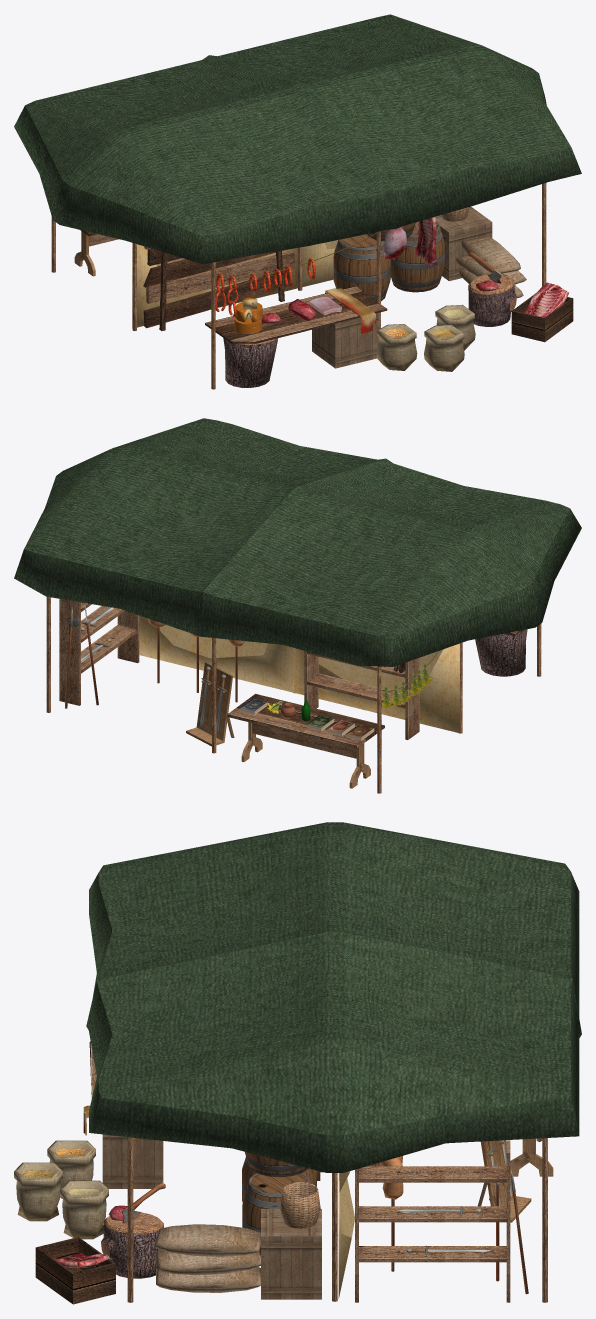
The model's file is Market.fbx.
3 renders of one model, top to bottom at view 1: azimuth 30°, elevation 25°; view 2: azimuth 150°, elevation 25°; view 3: azimuth 270°, elevation 25°, orthographic. The views are drawn at different scales.
Parts seen in each view (by area): view 1: FabricRoof, Cube.009, Cube.001, FabricWall, Cylinder.003, WoodenBox, Construct, Cylinder.001, Stump_1, Stump_2, WoodenBox.001, OpenBox (+9 smaller); view 2: FabricRoof, FabricWall, Shelf.001, Shelf, Cube.013, Construct, Stump_1, SwordStand, Cube.014, Cube.012; view 3: FabricRoof, Shelf.001, WoodenBox.001, OpenBox, Sack.002, Construct, WoodenBox, Stump_2, SackOfWheat, SackOfRice, Sack, Sack.001 (+8 smaller).
Boxes of the visible parts, x1=… form: FabricRoof: x1=14, y1=14, x2=581, y2=264; Cube.009: x1=143, y1=246, x2=294, y2=330; Cube.001: x1=205, y1=286, x2=387, y2=343; FabricWall: x1=132, y1=240, x2=337, y2=328; Cylinder.003: x1=333, y1=234, x2=390, y2=301; WoodenBox: x1=312, y1=313, x2=378, y2=368; Construct: x1=51, y1=183, x2=546, y2=389; Cylinder.001: x1=391, y1=220, x2=444, y2=292; Stump_1: x1=223, y1=338, x2=277, y2=387; Stump_2: x1=468, y1=273, x2=516, y2=326; WoodenBox.001: x1=435, y1=206, x2=492, y2=281; OpenBox: x1=511, y1=293, x2=573, y2=342; FabricRoof: x1=14, y1=418, x2=581, y2=666; FabricWall: x1=139, y1=615, x2=459, y2=733; Shelf.001: x1=59, y1=599, x2=139, y2=705; Shelf: x1=304, y1=651, x2=419, y2=739; Cube.013: x1=227, y1=694, x2=384, y2=748; Construct: x1=46, y1=597, x2=541, y2=793; Stump_1: x1=475, y1=629, x2=527, y2=676; SwordStand: x1=186, y1=662, x2=234, y2=746; Cube.014: x1=252, y1=723, x2=356, y2=758; Cube.012: x1=241, y1=722, x2=370, y2=788; FabricRoof: x1=86, y1=822, x2=581, y2=1172; Shelf.001: x1=355, y1=1140, x2=510, y2=1302; WoodenBox.001: x1=261, y1=1209, x2=321, y2=1299; OpenBox: x1=35, y1=1237, x2=115, y2=1304; Sack.002: x1=154, y1=1224, x2=260, y2=1256; Construct: x1=127, y1=1137, x2=547, y2=1302; WoodenBox: x1=102, y1=1134, x2=163, y2=1188; Stump_2: x1=101, y1=1212, x2=163, y2=1278; SackOfWheat: x1=14, y1=1162, x2=62, y2=1221; SackOfRice: x1=60, y1=1180, x2=108, y2=1239; Sack: x1=156, y1=1267, x2=260, y2=1292; Sack.001: x1=154, y1=1250, x2=260, y2=1275.
Size of the model in its own units: 882 by 357 by 689.
Materials: 31 (30 with a texture image).
